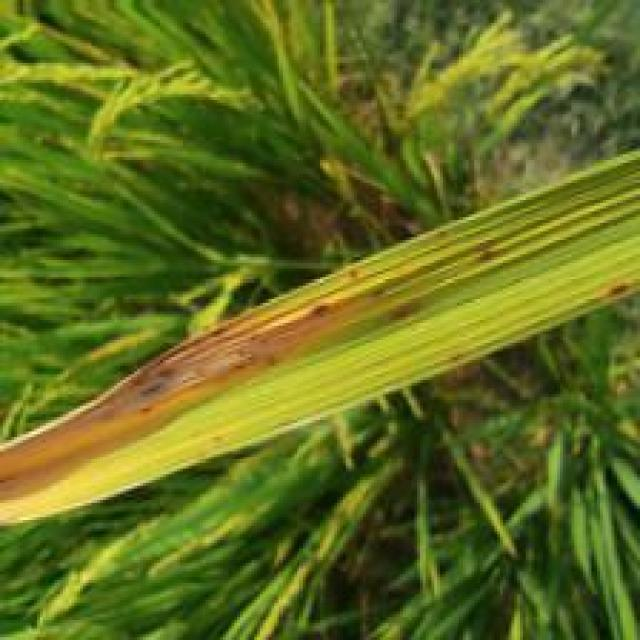Bacterial_Leaf_Blight: (34, 300, 354, 445)
